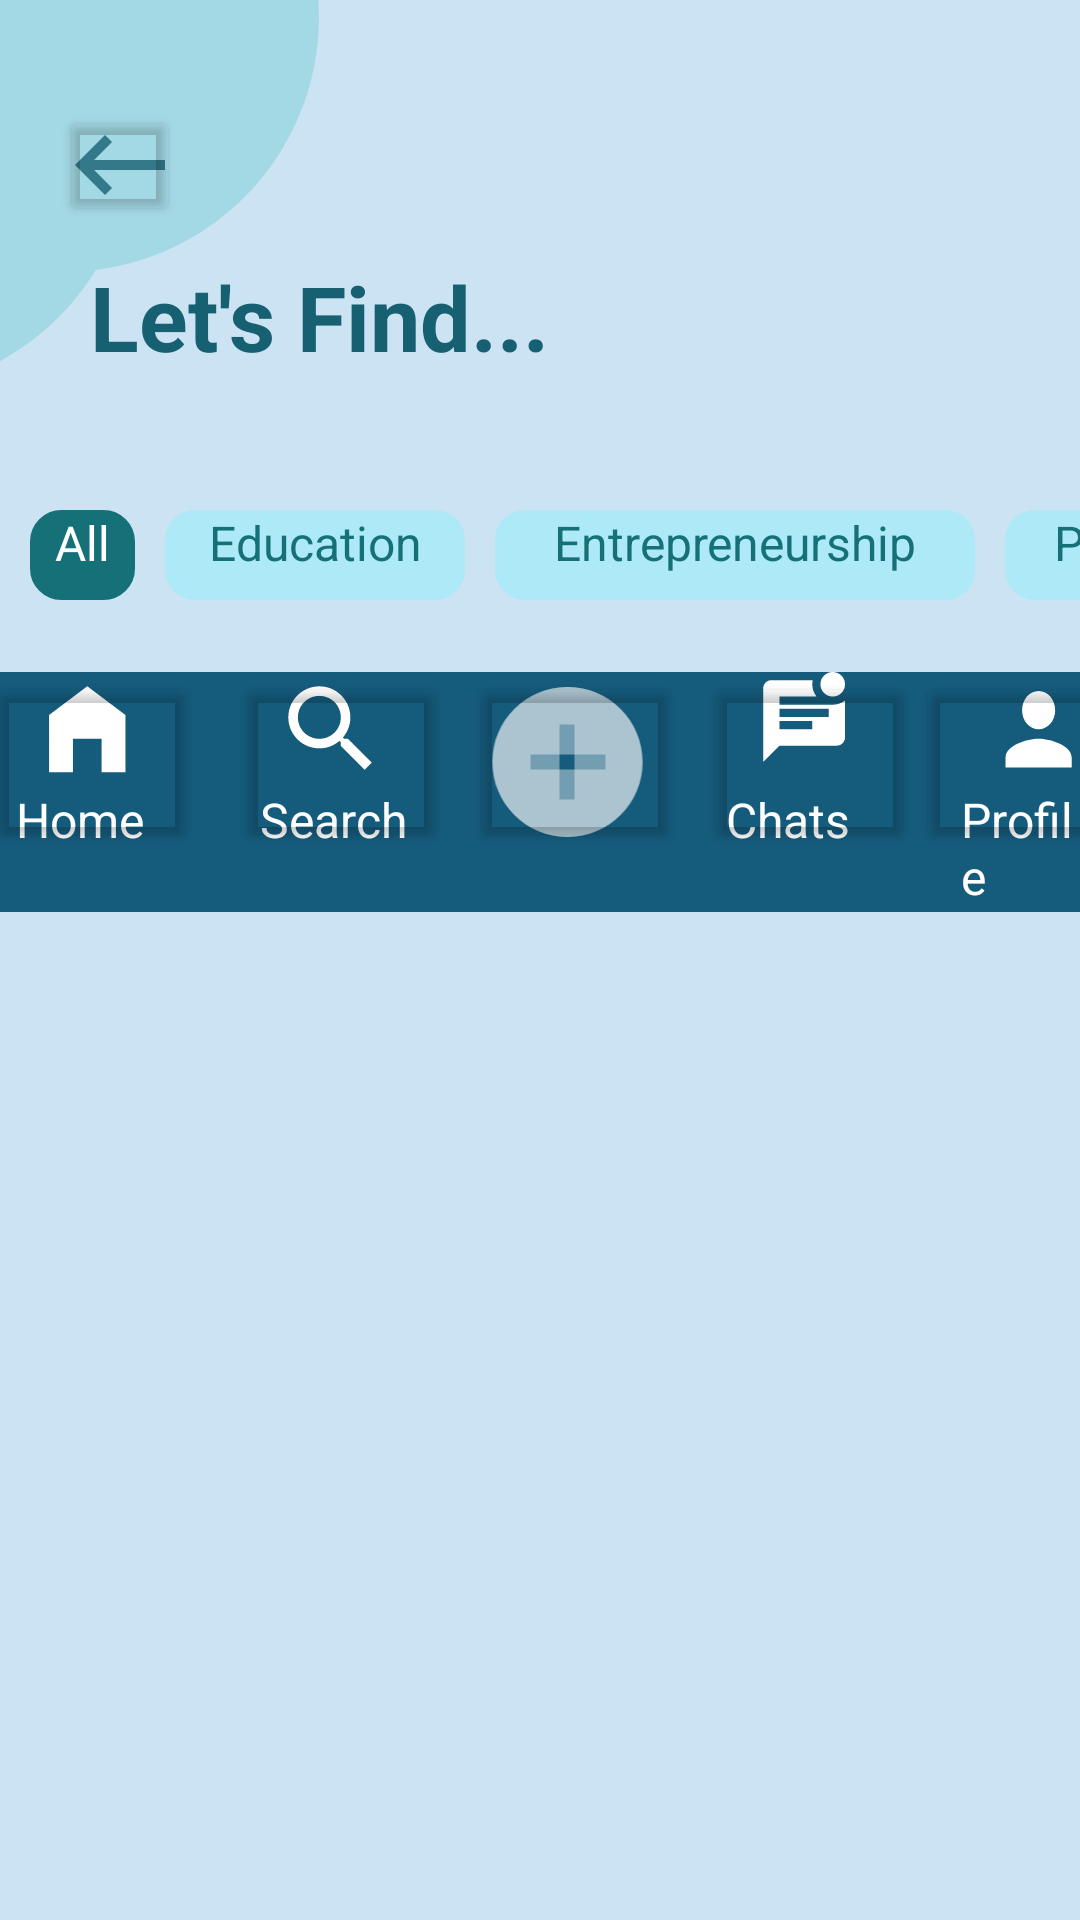

Named icons in this screenshot (1080x1920) and their bounding boxes, (x1, y1, x2, y2):
back: (71, 127, 165, 206)
